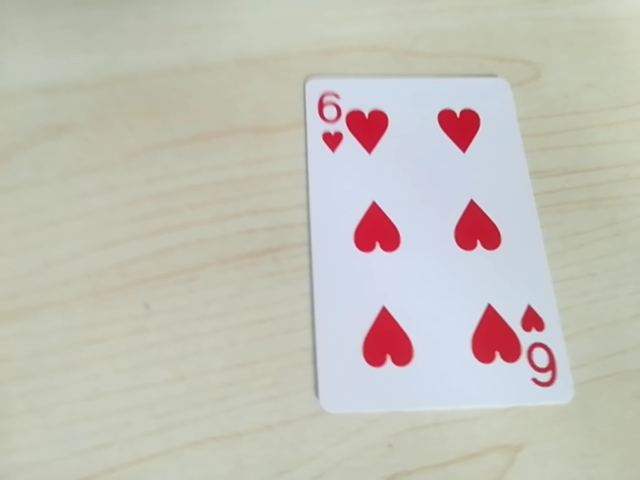hx 6: (311, 87, 358, 153), (519, 325, 560, 392)
